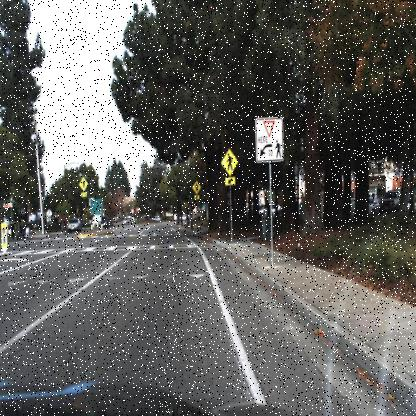car: (63, 213, 83, 240), (119, 211, 136, 226), (96, 214, 110, 230)
